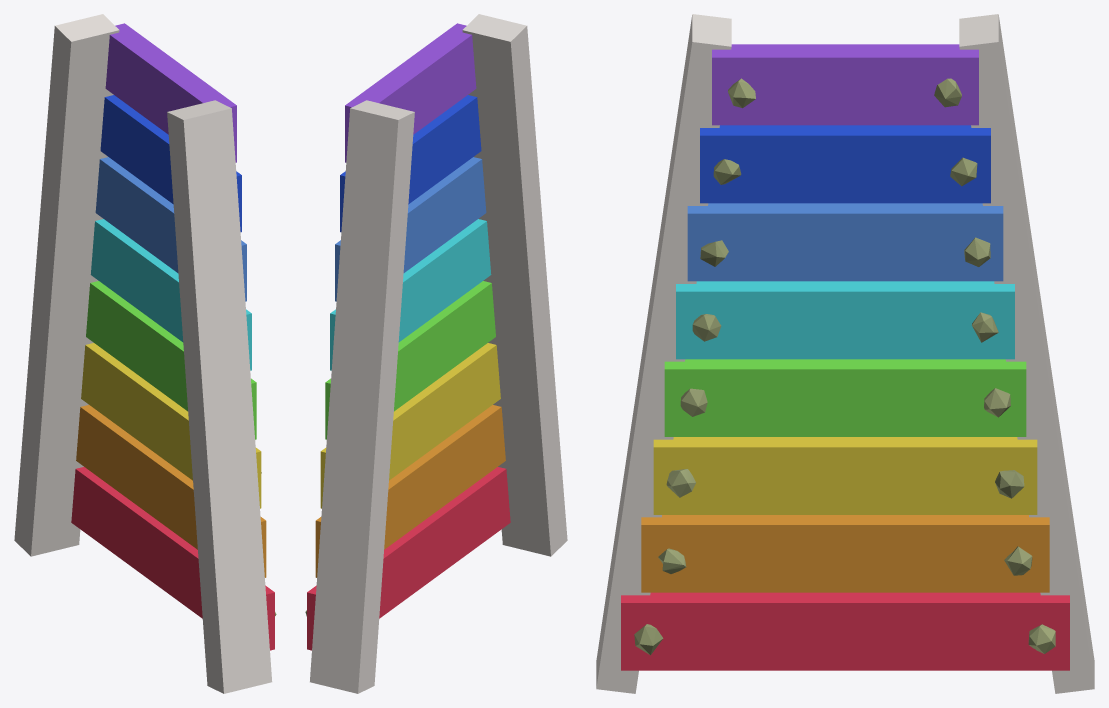
The model's file is xylophone2_LOD1.fbx.
3 views of the same model, side by side, from view 1: azimuth 30°, elevation 25°; view 2: azimuth 150°, elevation 25°; view 3: azimuth 270°, elevation 25° (orthographic). The views are drawn at different scales.
Parts seen in each view (by area): view 1: Cube; view 2: Cube; view 3: Cube.
Part boxes in pixels (left/top/right/bottom): Cube: left=14, top=14, right=276, bottom=693; Cube: left=305, top=14, right=567, bottom=693; Cube: left=596, top=14, right=1094, bottom=693.
Bounding box in the file's own units: 161 × 1167 × 809.
